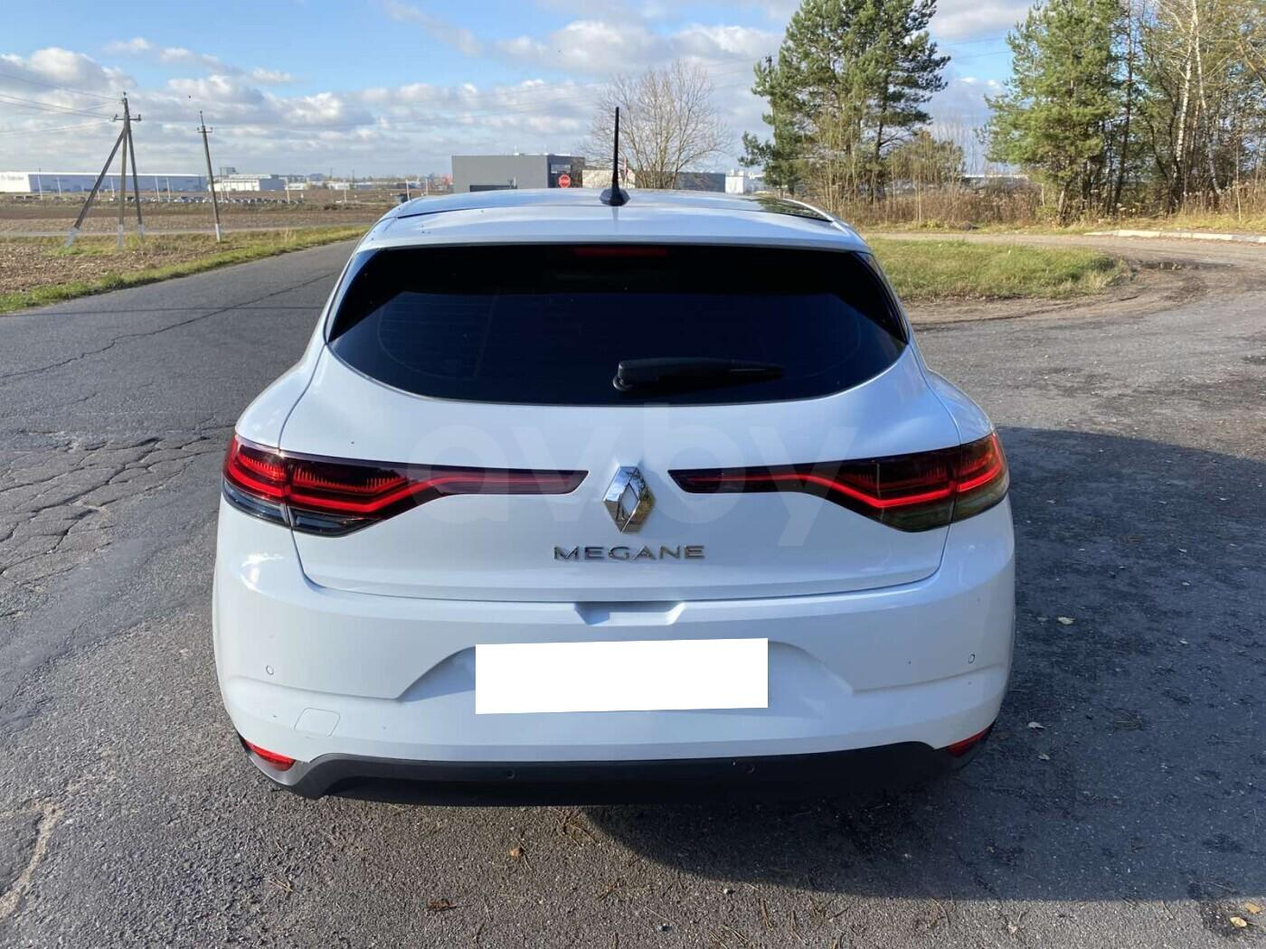Megane_2020: (211, 186, 1017, 793)
